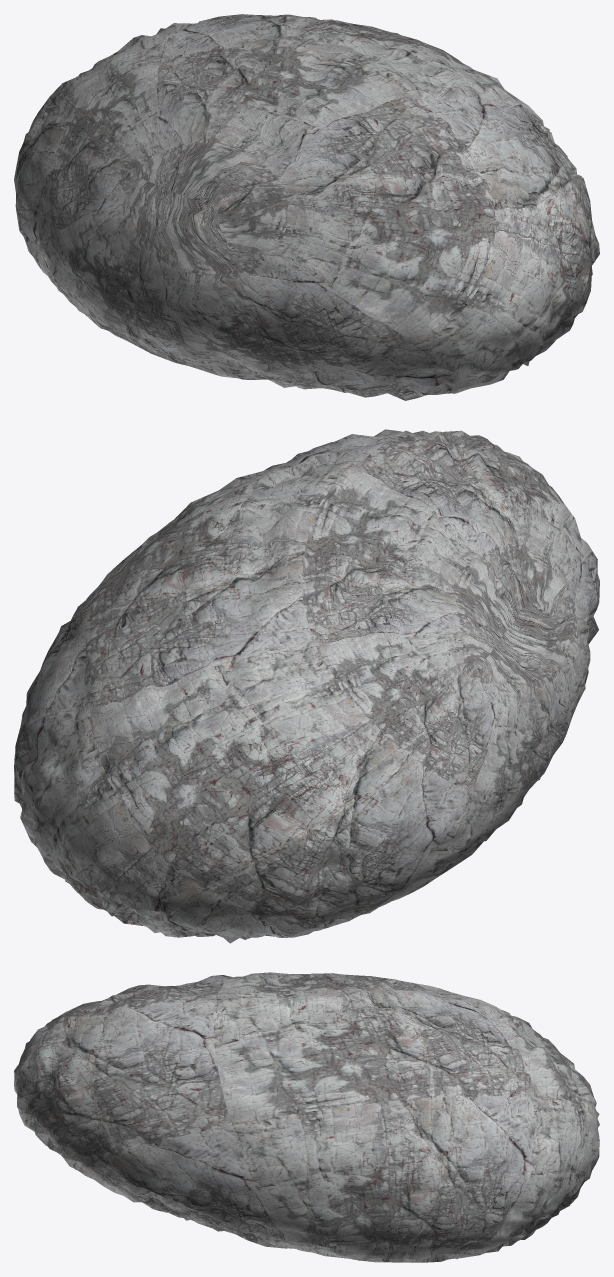
The model's file is Stone.fbx.
3 views of the same model, one above another, from view 1: azimuth 30°, elevation 25°; view 2: azimuth 150°, elevation 25°; view 3: azimuth 270°, elevation 25° (orthographic). The views are drawn at different scales.
Parts seen in each view (by area): view 1: Icosphere; view 2: Icosphere; view 3: Icosphere.
Part boxes in pixels (x1=…): Icosphere: x1=14, y1=14, x2=599, y2=400; Icosphere: x1=14, y1=429, x2=599, y2=943; Icosphere: x1=14, y1=972, x2=599, y2=1262.
Bounding box in the file's own units: 138 × 98.21 × 211.
